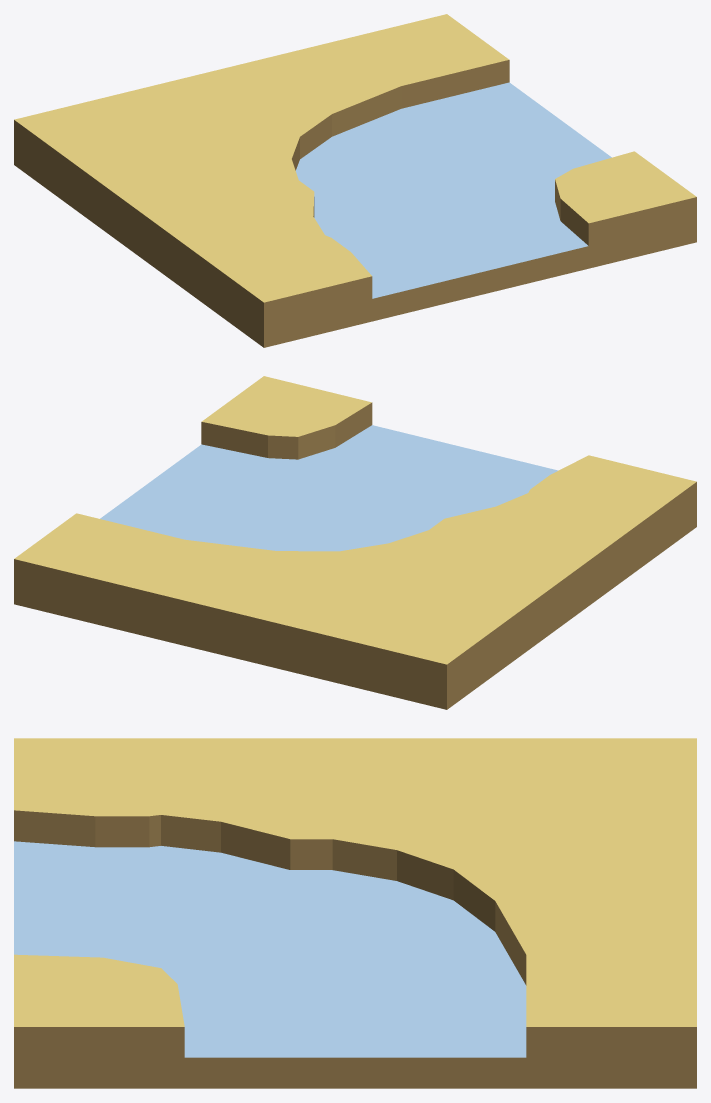
The model's file is Terrain_Modular_Tiles_Sand_Dirt_River_Bend_03.fbx.
The picture shows the model from 3 angles, top to bottom: view 1: azimuth 30°, elevation 25°; view 2: azimuth 150°, elevation 25°; view 3: azimuth 270°, elevation 25°; orthographic projection. The views are drawn at different scales.
Parts seen in each view (by area): view 1: Terrain_Modular_Tiles_Sand_Dirt_River_Bend_03; view 2: Terrain_Modular_Tiles_Sand_Dirt_River_Bend_03; view 3: Terrain_Modular_Tiles_Sand_Dirt_River_Bend_03.
Part boxes in pixels (left/top/right/bottom): Terrain_Modular_Tiles_Sand_Dirt_River_Bend_03: left=14, top=14, right=696, bottom=347; Terrain_Modular_Tiles_Sand_Dirt_River_Bend_03: left=14, top=376, right=696, bottom=709; Terrain_Modular_Tiles_Sand_Dirt_River_Bend_03: left=14, top=738, right=696, bottom=1088.
Size of the model in its own units: 118 by 11.81 by 118.
